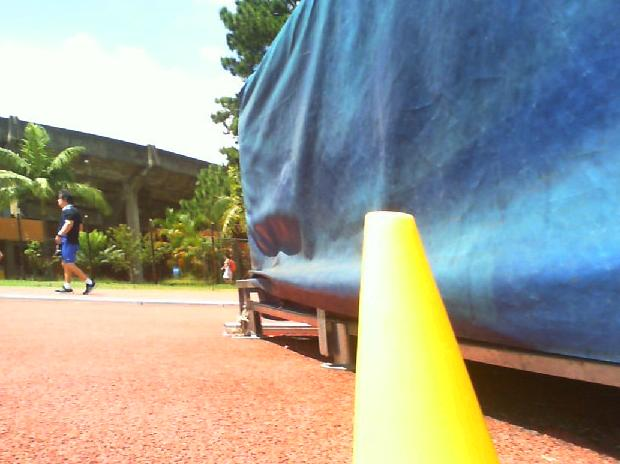0 cone: (351, 212, 504, 464)
